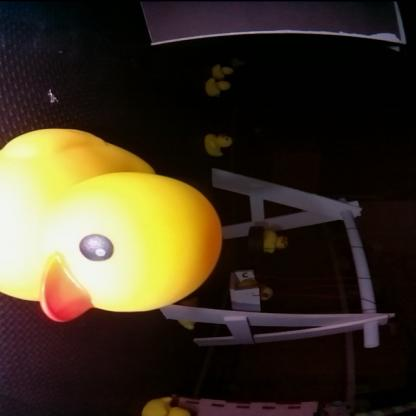Duckie: (13, 130, 222, 316), (142, 398, 192, 414), (207, 134, 233, 156), (181, 300, 201, 328), (265, 230, 289, 253), (210, 80, 232, 94), (213, 65, 232, 76)
